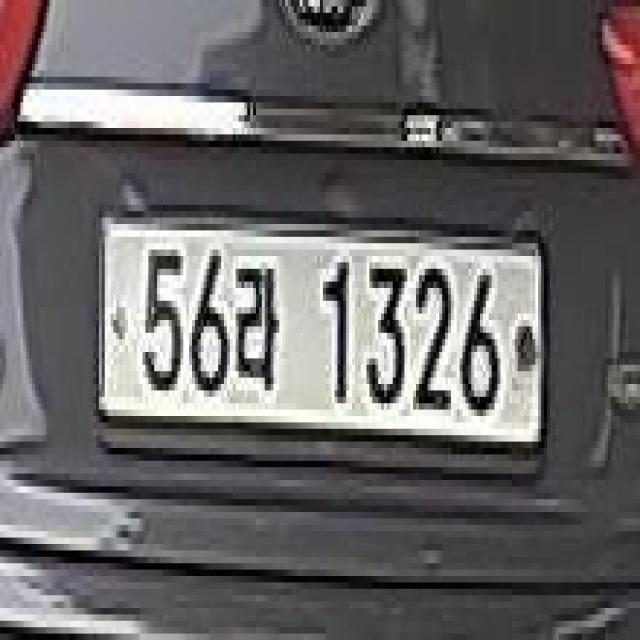illegal_plate: (93, 197, 551, 500)
